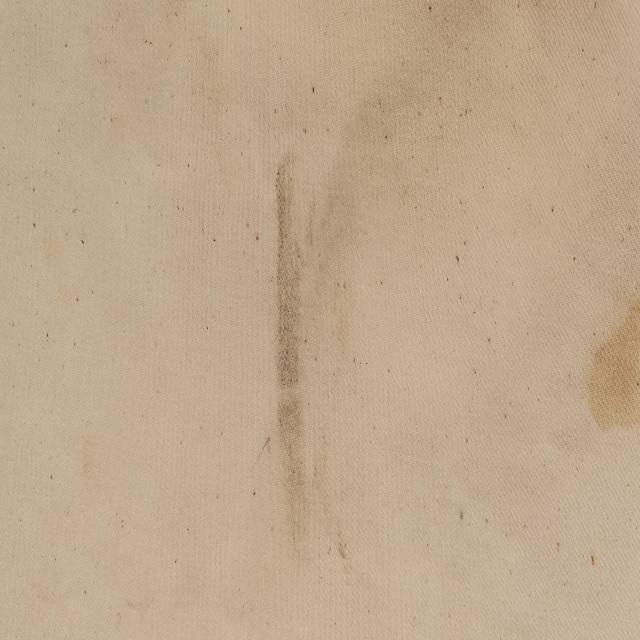taaaches: (247, 134, 356, 596), (578, 260, 640, 470)
